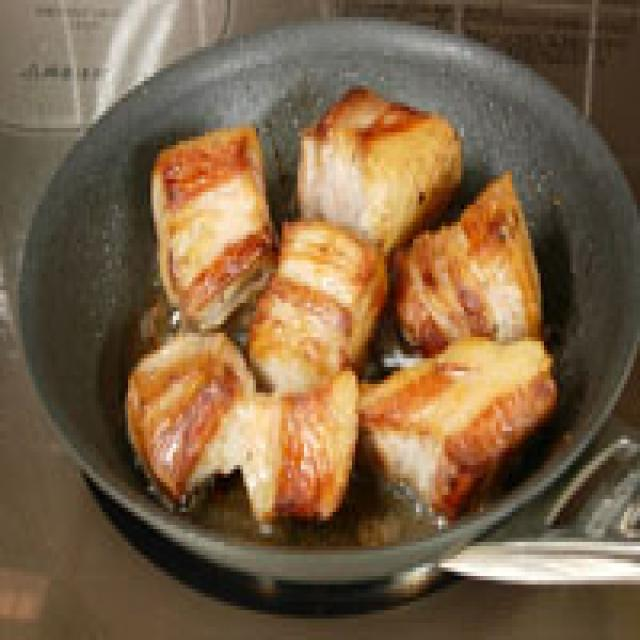猪肉菜式: (9, 0, 640, 593)
